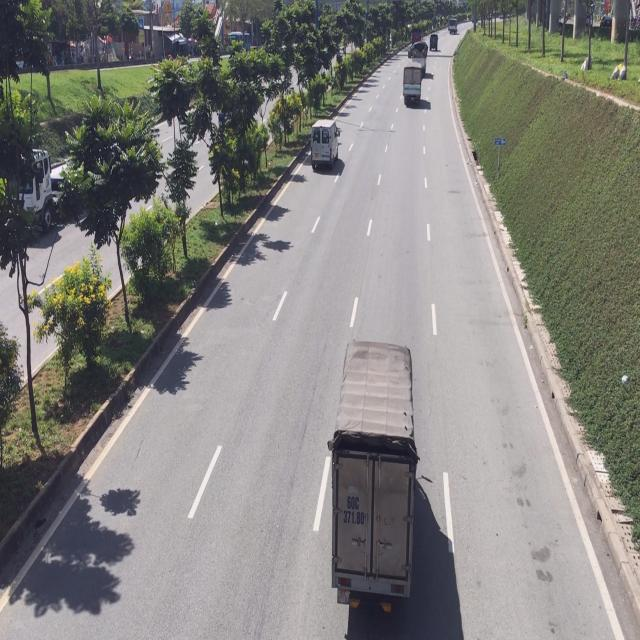bus: (311, 120, 339, 172)
truck: (332, 342, 416, 616), (402, 62, 423, 109)
